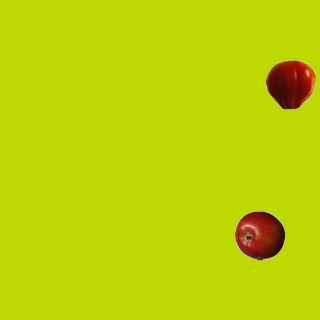Apple Braeburn: (234, 210, 284, 260)
Tomato 1: (265, 59, 315, 109)
